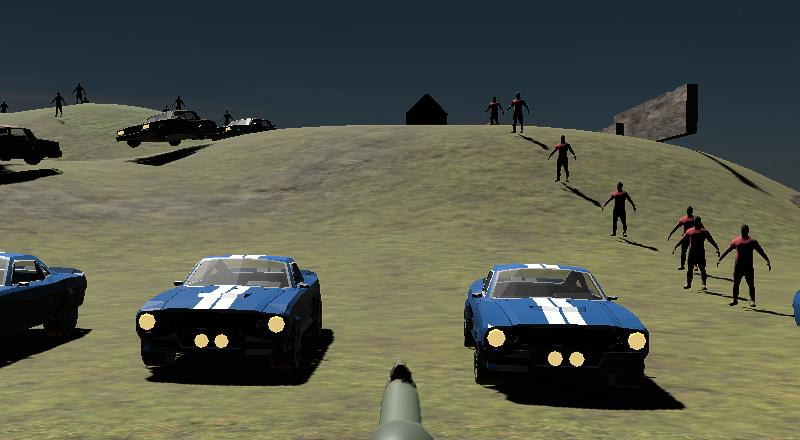House: (402, 91, 453, 134)
Human: (672, 205, 784, 310), (481, 85, 538, 141), (602, 175, 642, 242), (547, 128, 582, 188), (48, 87, 70, 120), (71, 79, 93, 108)
car: (121, 242, 352, 396), (449, 251, 669, 410), (0, 237, 107, 381), (109, 103, 230, 154), (0, 117, 74, 192)
